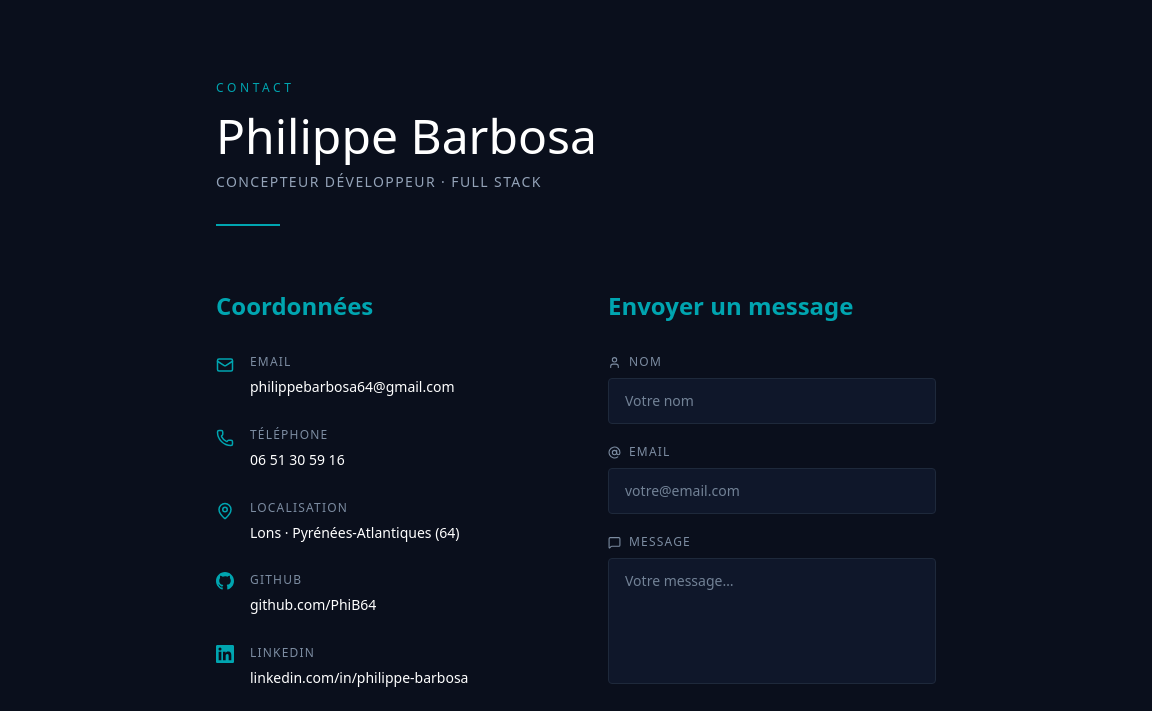
envoi › n'envoie rien si le délai est trop court, et le dit « envoyé »
This screenshot has width=1152, height=711.
Type "Camille Dupont" into the field labelled "Nom" at (772, 401), box [608, 378, 936, 424]
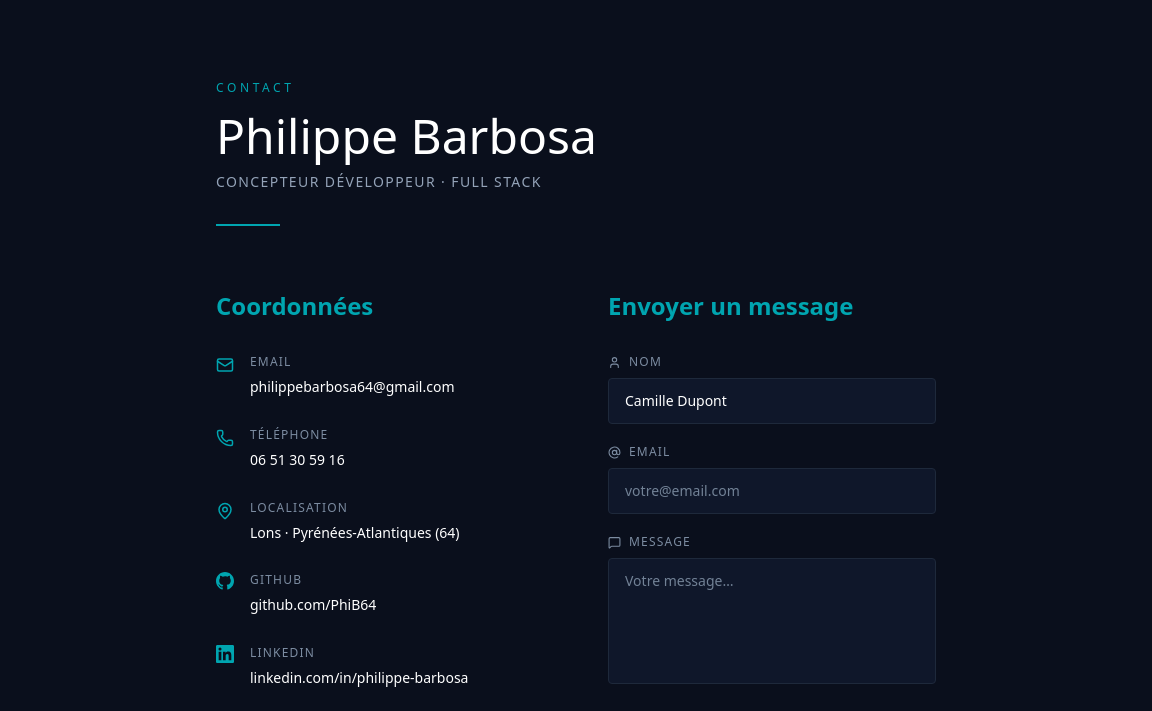
Type "camille@example.org" into the field labelled "Email" at (772, 491), box [608, 468, 936, 514]
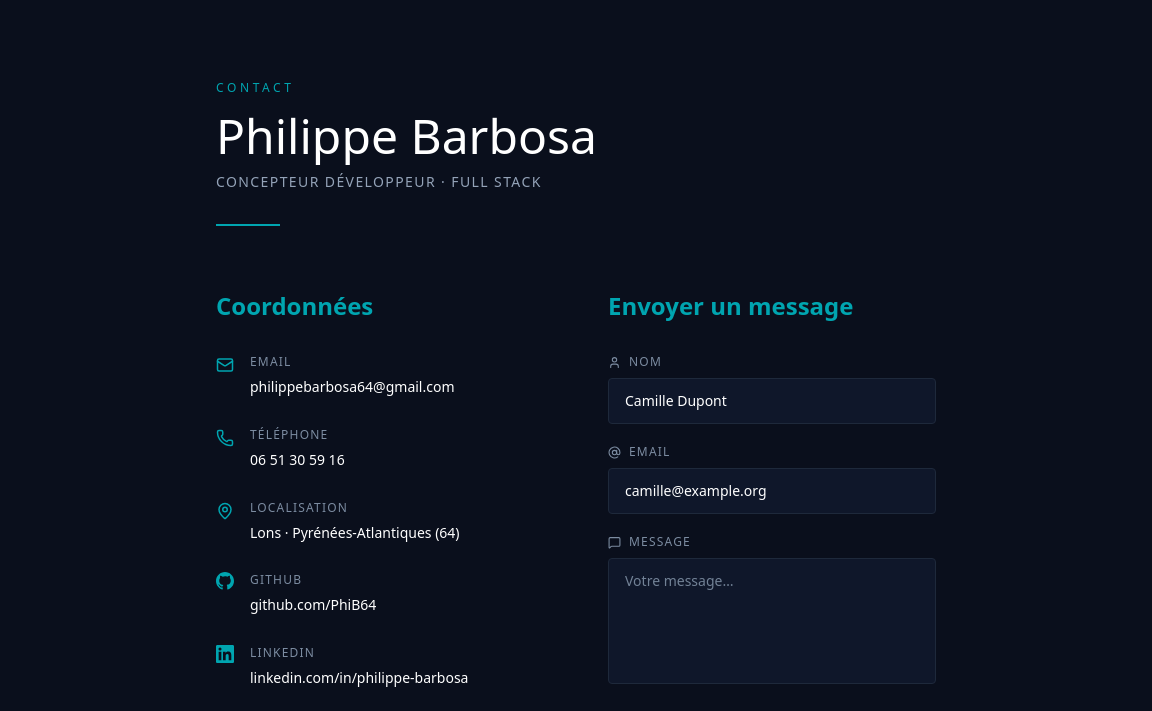
Type "Bonjour, je vous écris au sujet de votre portfolio." into the text box labelled "Message" at (772, 621), box [608, 558, 936, 684]
(page scrolled)
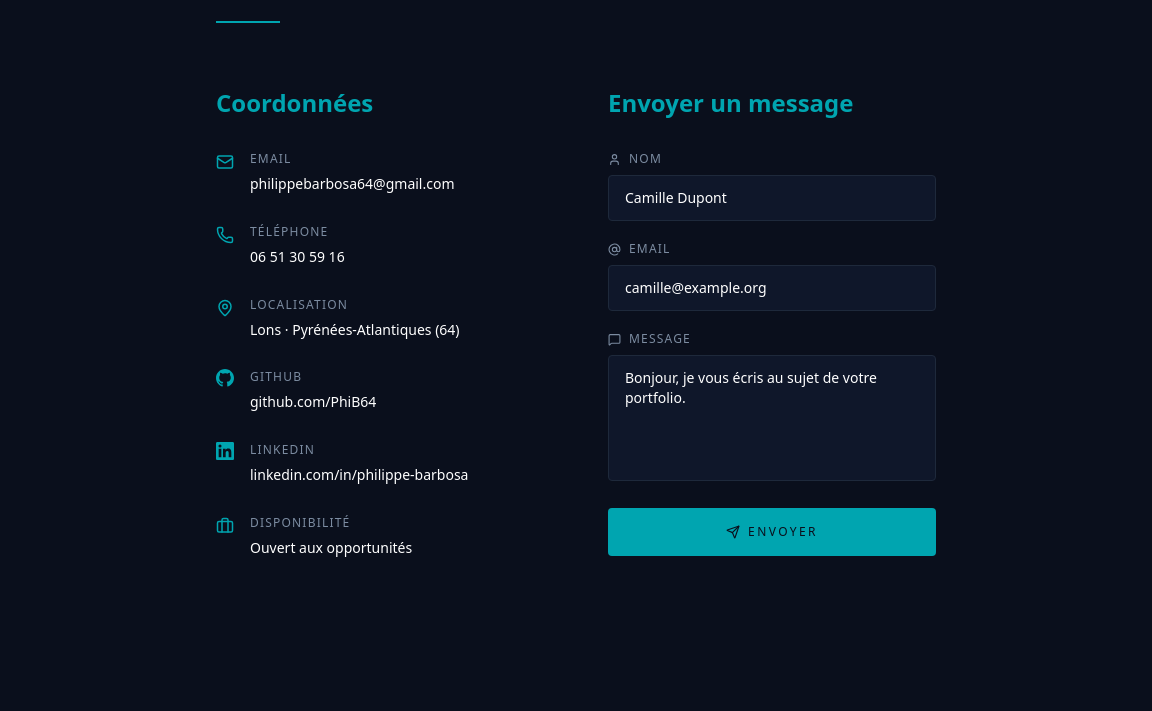
Click the button "Envoyer" at (772, 532), box [608, 508, 936, 556]
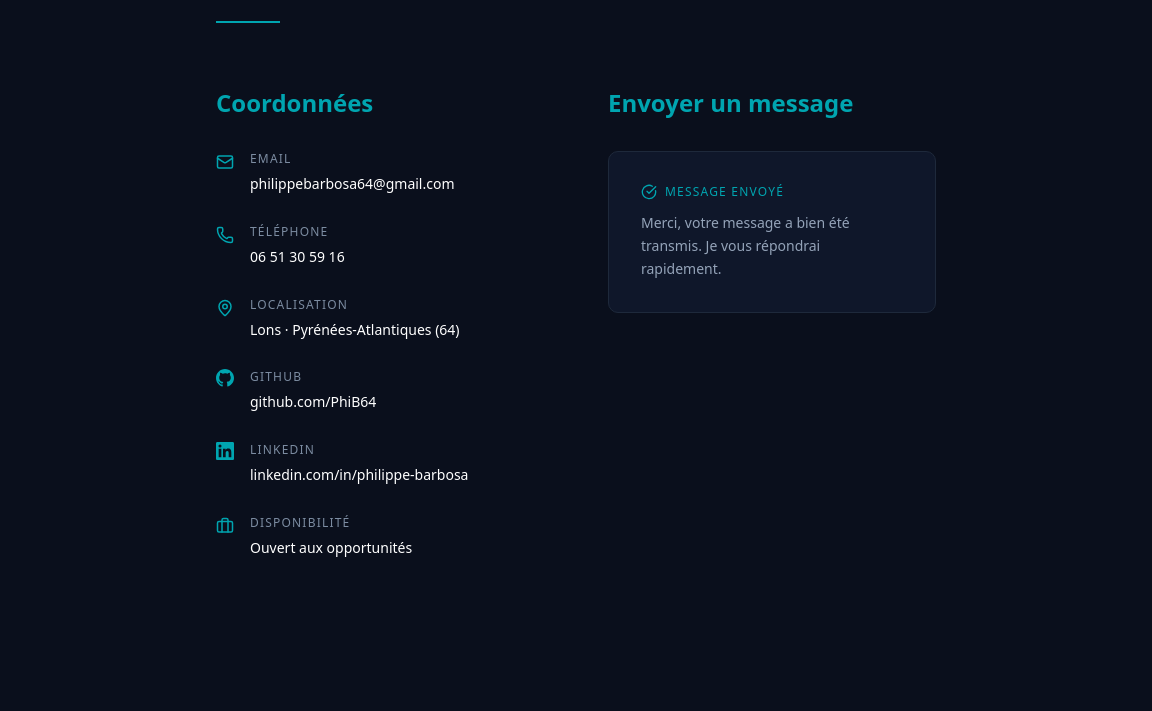
Check: the text "bien été transmis" is shown, box [641, 213, 850, 278]
